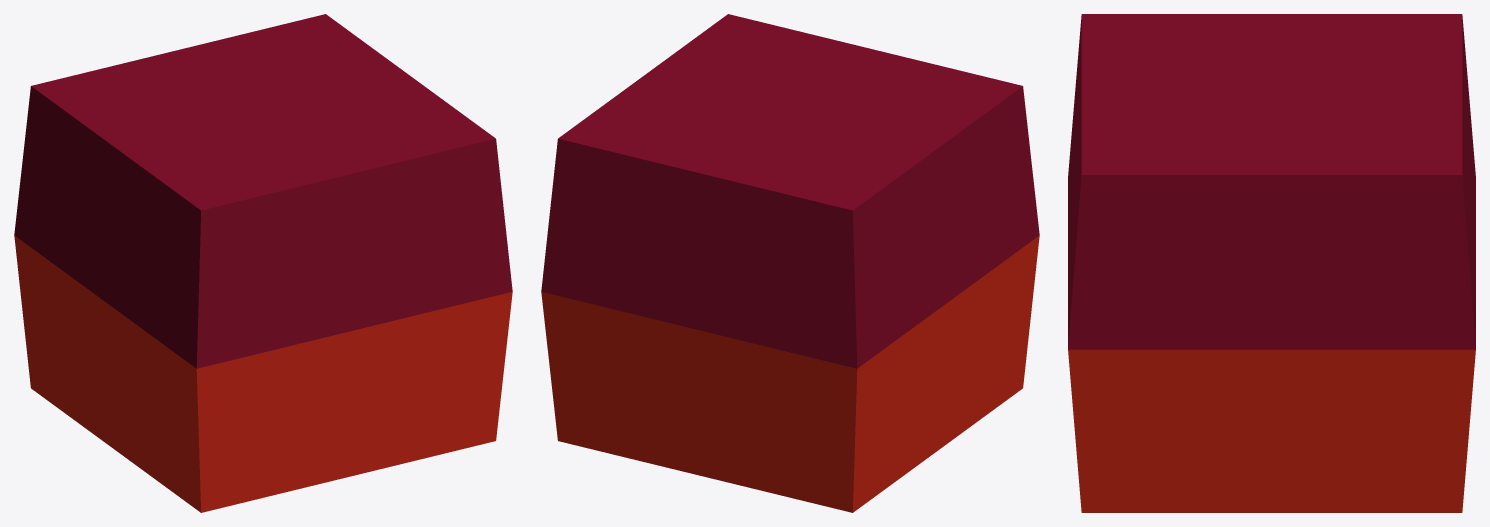
Rendered from enemy_swallower_d.gltf.
The picture shows the model from 3 angles, left to right: view 1: azimuth 30°, elevation 25°; view 2: azimuth 150°, elevation 25°; view 3: azimuth 270°, elevation 25°; orthographic projection. The views are drawn at different scales.
Visible parts, largest first — view 1: enemy_swallower_d; view 2: enemy_swallower_d; view 3: enemy_swallower_d.
Part boxes in pixels (x1=…): enemy_swallower_d: x1=14, y1=14, x2=512, y2=512; enemy_swallower_d: x1=541, y1=14, x2=1039, y2=512; enemy_swallower_d: x1=1068, y1=14, x2=1475, y2=512.
Bounding box in the file's own units: 4.37 × 4 × 4.37.
